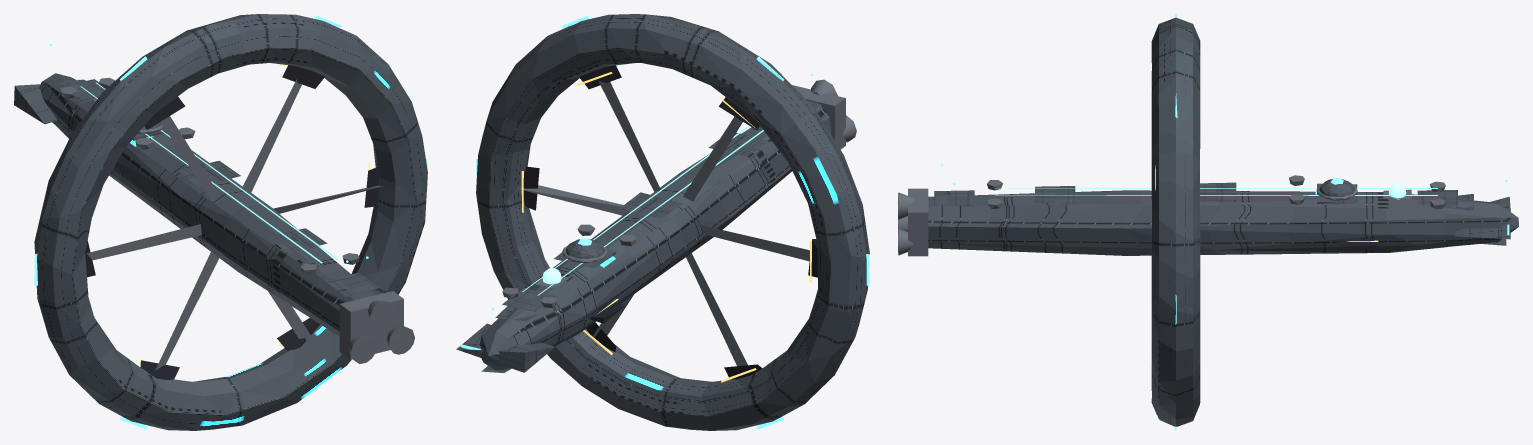
Rendered from meridian_lod1.glb.
3 renders of one model, left to right at view 1: azimuth 30°, elevation 25°; view 2: azimuth 150°, elevation 25°; view 3: azimuth 270°, elevation 25°, orthographic. The views are drawn at different scales.
Visible parts, largest first — view 1: Ring, Spine, RingSpokes, EngineBlock, ArmorPlates, RingHangars, Prow, TurretBases, EnergyStrips, RingLights; view 2: Ring, Spine, RingSpokes, ArmorPlates, RingHangars, Prow, EngineBlock, EnergyStrips, TurretBases, RingHangarRims, ShieldDome, RingLights (+1 smaller); view 3: Spine, Ring, ArmorPlates, EngineBlock, Prow, TurretBases, EnergyStrips.
Boxes of the visible parts, x1,y1,x2,y2 form: Ring: [34, 14, 427, 430]; Spine: [39, 73, 375, 336]; RingSpokes: [87, 79, 383, 370]; EngineBlock: [339, 291, 414, 363]; ArmorPlates: [60, 79, 379, 296]; RingHangars: [85, 65, 379, 379]; Prow: [14, 79, 85, 124]; TurretBases: [60, 77, 359, 274]; EnergyStrips: [80, 82, 337, 263]; RingLights: [34, 15, 427, 429]; Ring: [476, 14, 869, 430]; Spine: [479, 100, 831, 370]; RingSpokes: [520, 81, 809, 366]; ArmorPlates: [502, 100, 821, 312]; RingHangars: [521, 65, 817, 379]; Prow: [456, 306, 554, 372]; EngineBlock: [792, 79, 856, 149]; EnergyStrips: [522, 125, 763, 295]; TurretBases: [502, 224, 636, 307]; RingHangarRims: [521, 72, 811, 382]; ShieldDome: [566, 239, 604, 262]; RingLights: [476, 16, 869, 429]; Spine: [928, 190, 1518, 255]; Ring: [1151, 17, 1200, 426]; ArmorPlates: [934, 182, 1457, 206]; EngineBlock: [898, 188, 928, 256]; Prow: [1443, 194, 1510, 245]; TurretBases: [987, 175, 1445, 209]; EnergyStrips: [995, 188, 1437, 195].
Bounding box in the file's own units: 103 × 102 × 154.
Materials: 7 (2 with a texture image).
